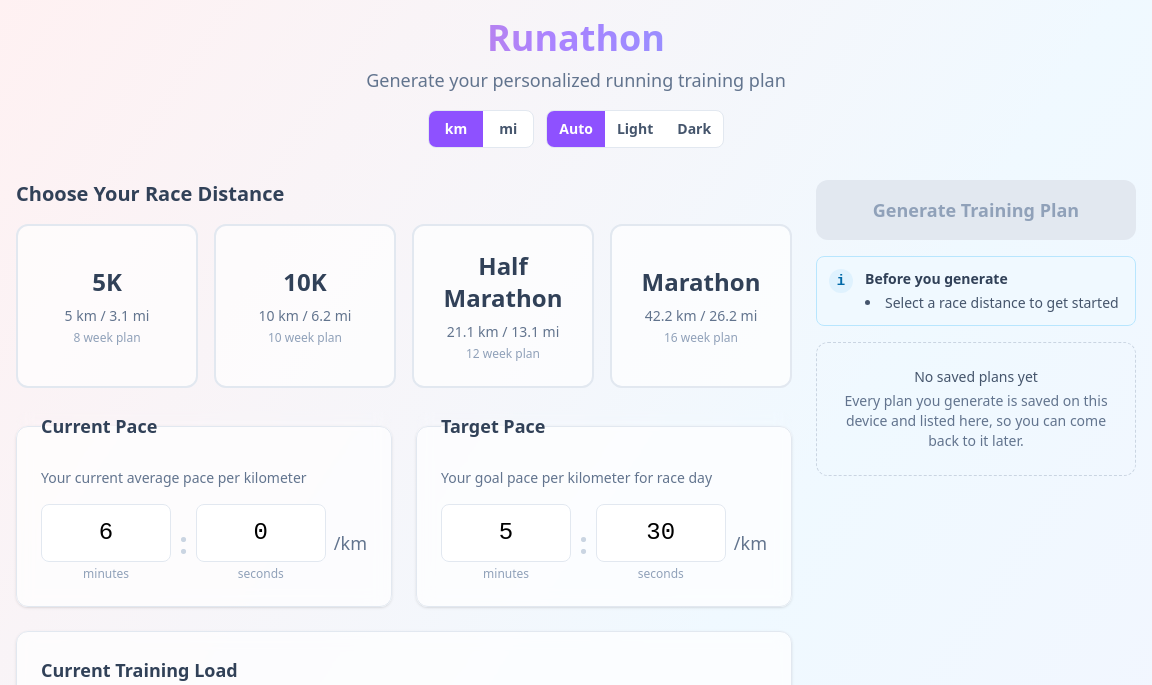
App › compares schedules and applies the chosen training frequency
Click the button with aria-label "10K, 10 kilometers" at (305, 306), box top-left (214, 224), bottom-right (396, 388)
(page scrolled)
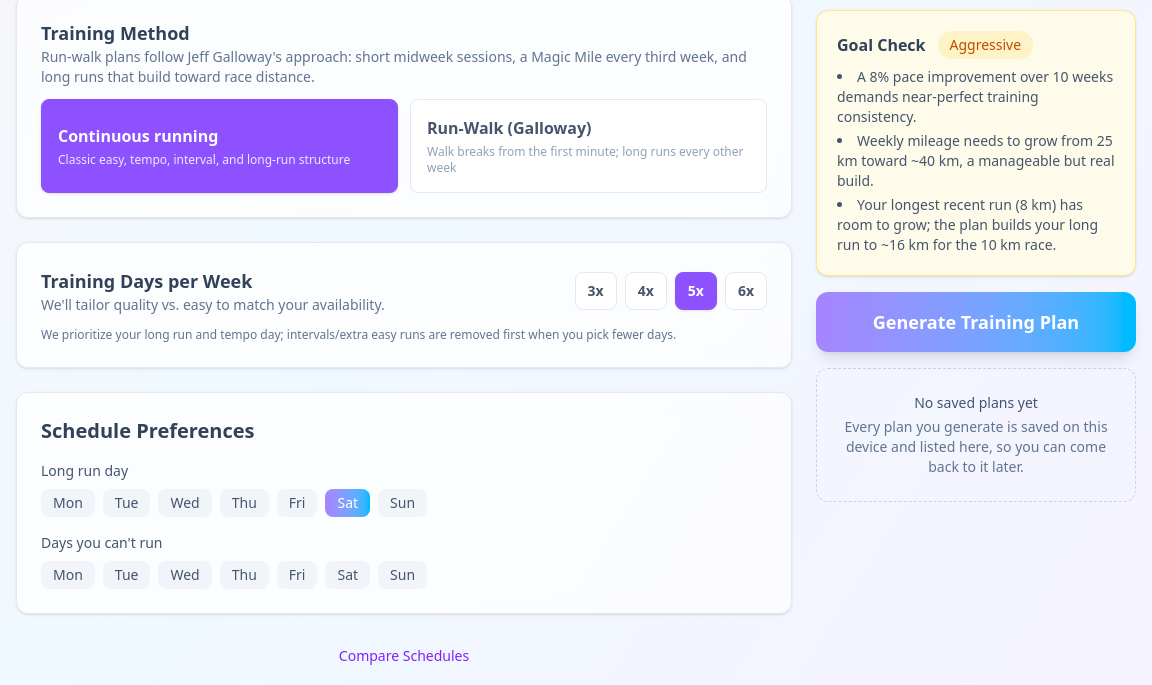
Click the button with aria-label "compare 3 to 6 day schedules" at (404, 656), box top-left (323, 638), bottom-right (485, 674)
(page scrolled)
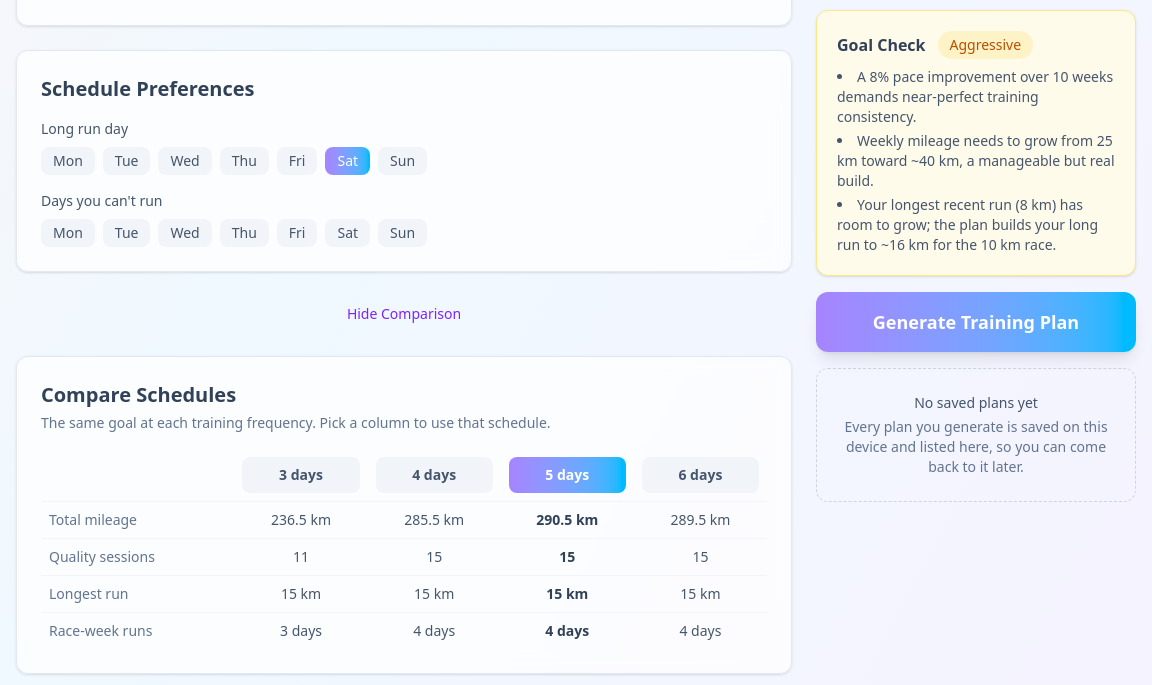
Expected: the heading "Compare Schedules" is shown, top-left (41, 381), bottom-right (236, 408)
Expected: the column heading "Total mileage" is shown, top-left (41, 502), bottom-right (234, 538)
Expected: the column heading "Longest run" is shown, top-left (41, 576), bottom-right (234, 612)
Click the button with aria-label "use the 3-day schedule" at (301, 475), box top-left (242, 457), bottom-right (360, 493)
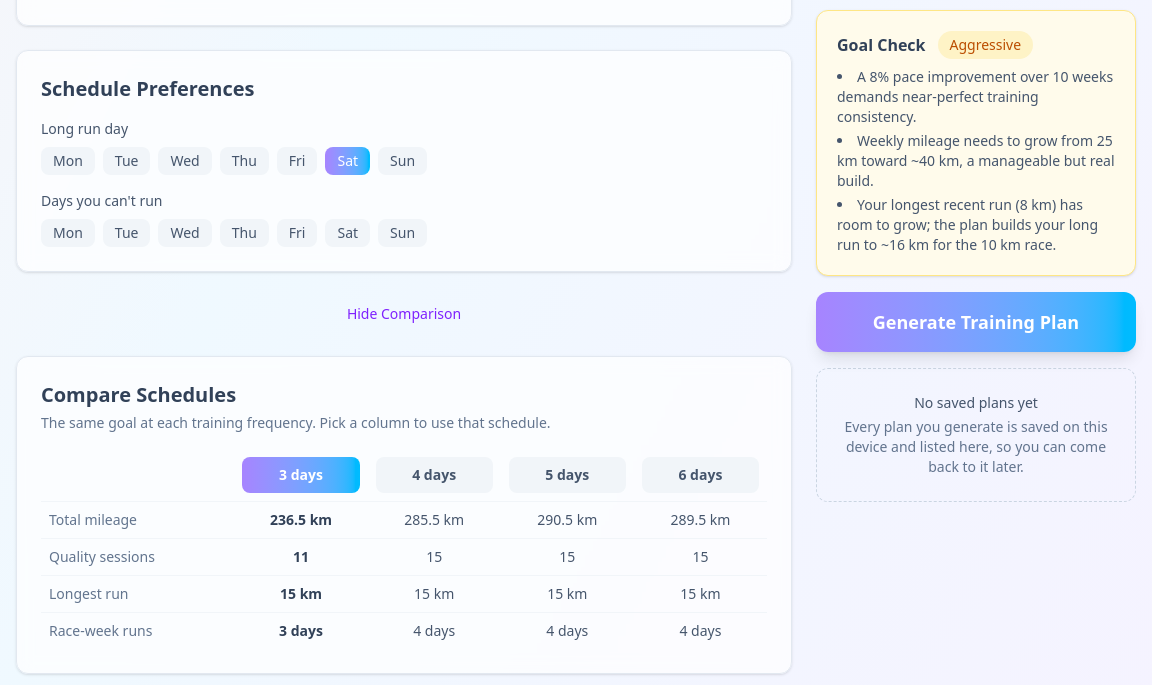
Expected: the button with aria-label "use the 3-day schedule" is pressed, top-left (242, 457), bottom-right (360, 493)
Click the button with aria-label "generate your personalized training plan" at (976, 322), box top-left (816, 292), bottom-right (1136, 352)
(page scrolled)
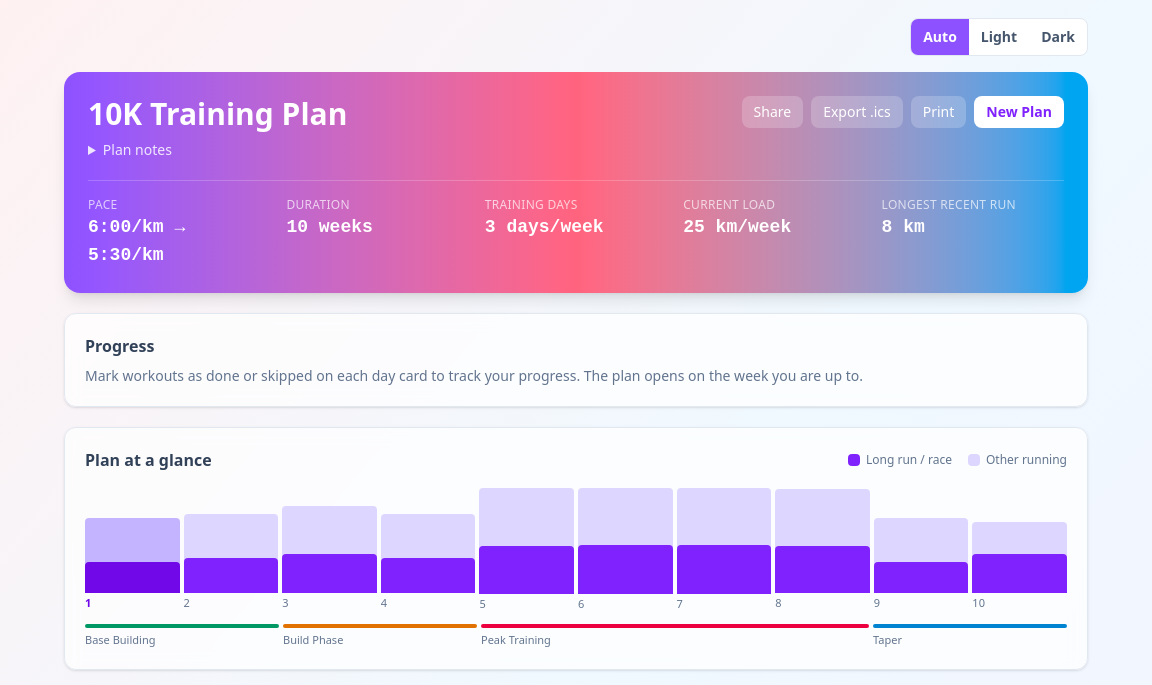
Expected: the text "3 days/week" is shown, top-left (485, 217), bottom-right (604, 237)
